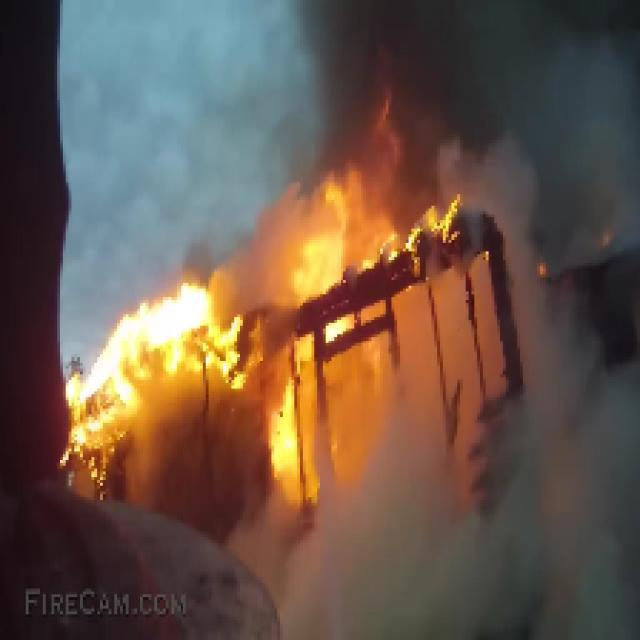Fire: (62, 175, 468, 494)
Smoke: (226, 354, 634, 640), (320, 6, 640, 363)
